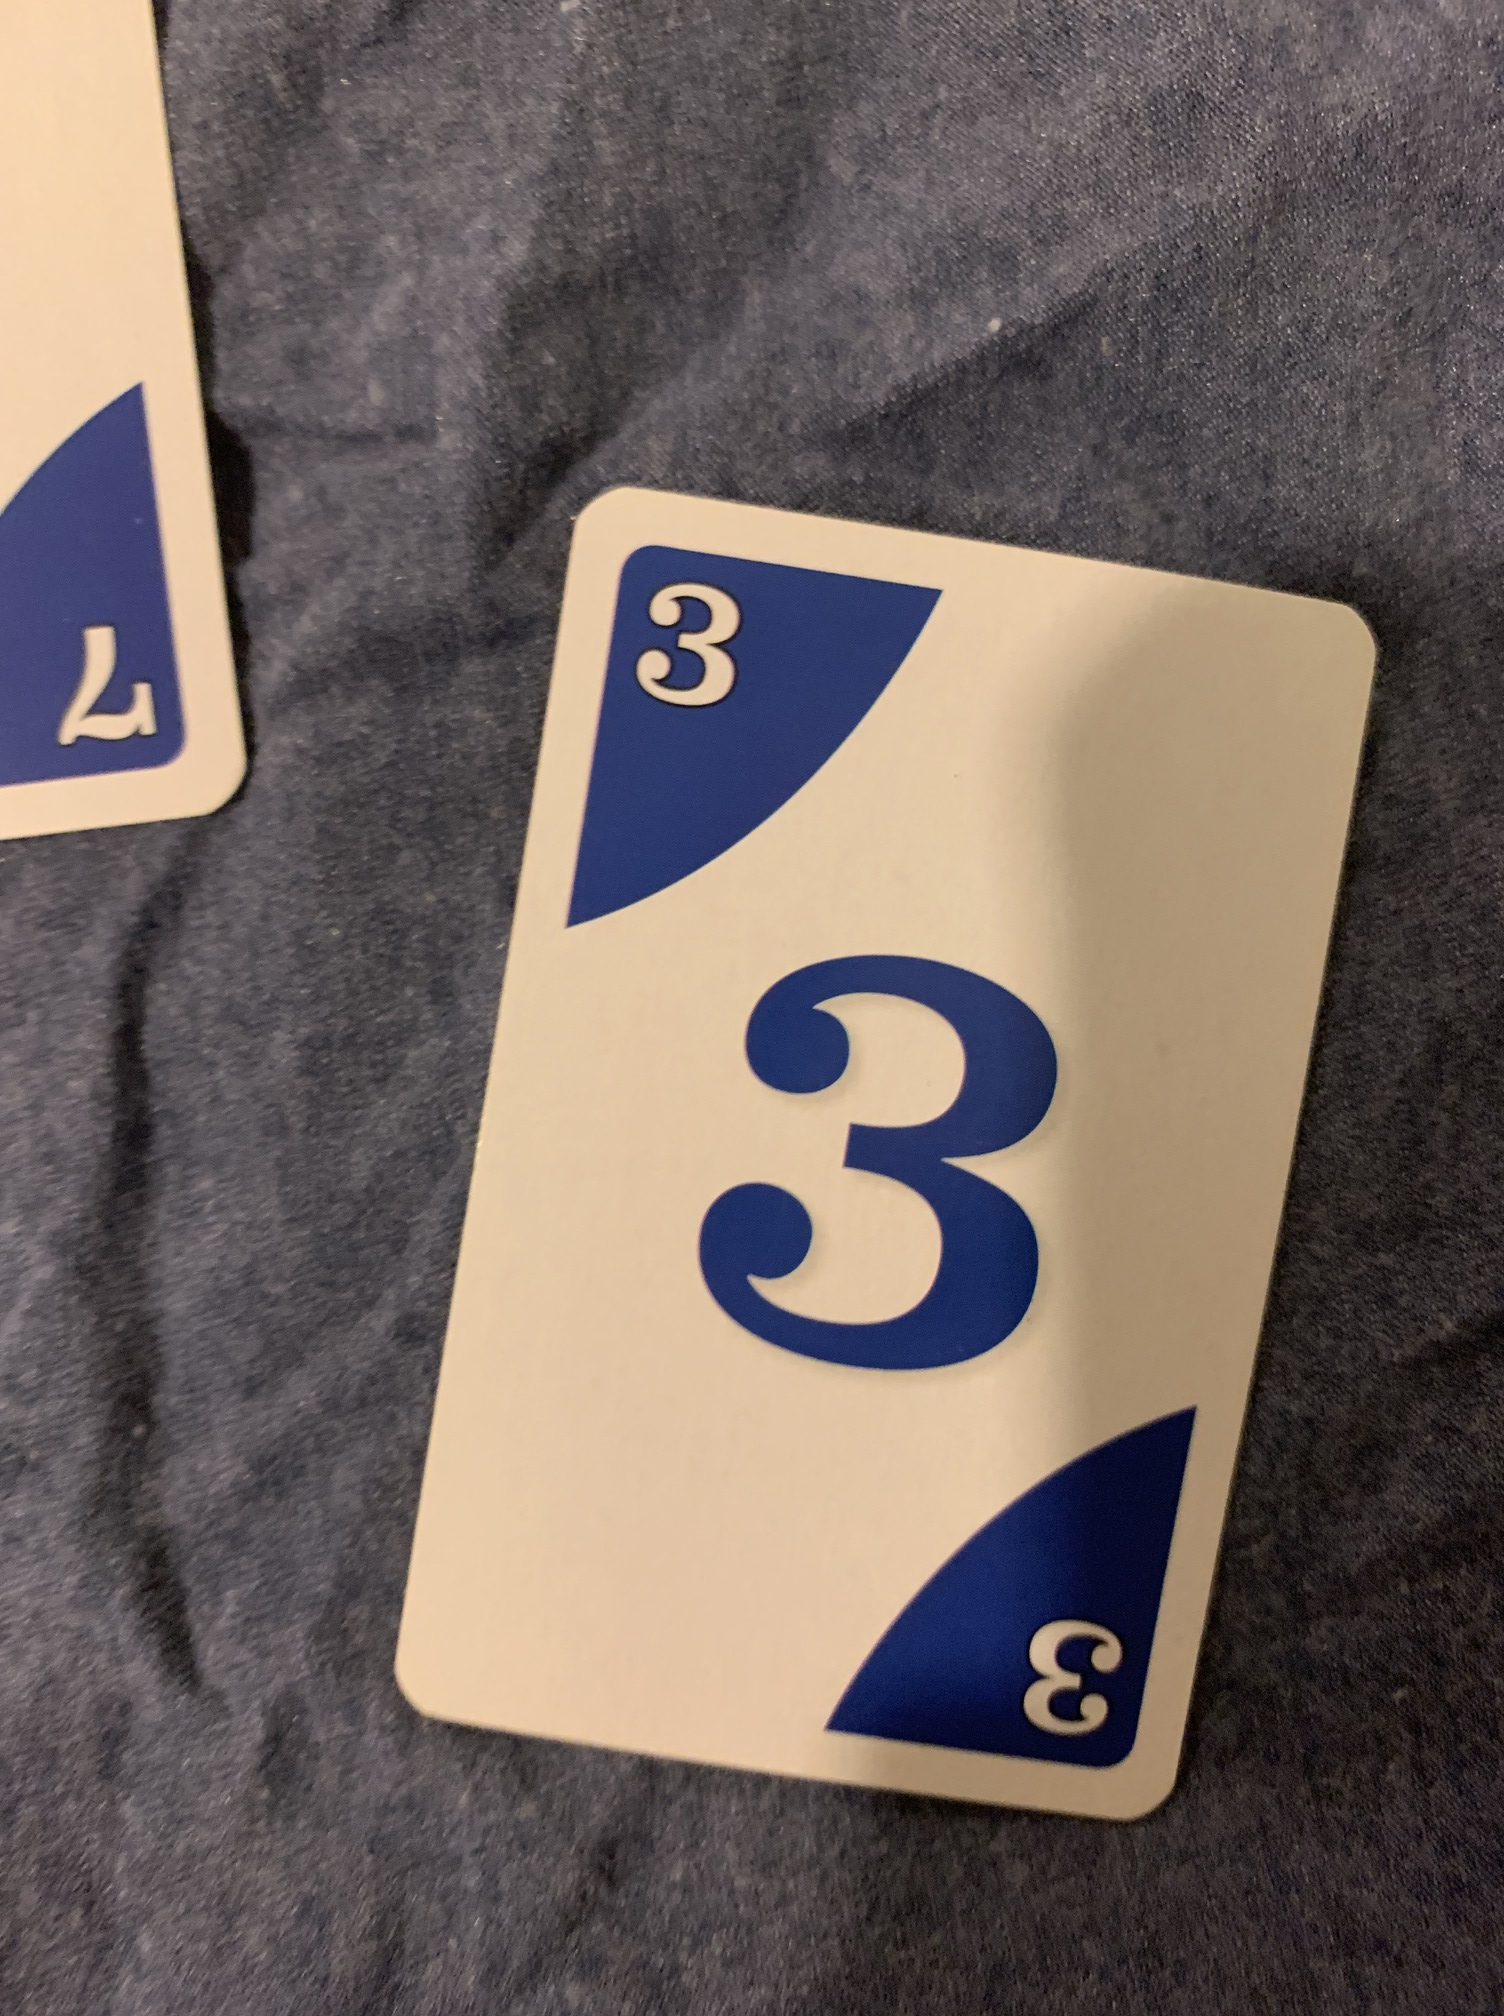three: (379, 482, 1397, 1837)
